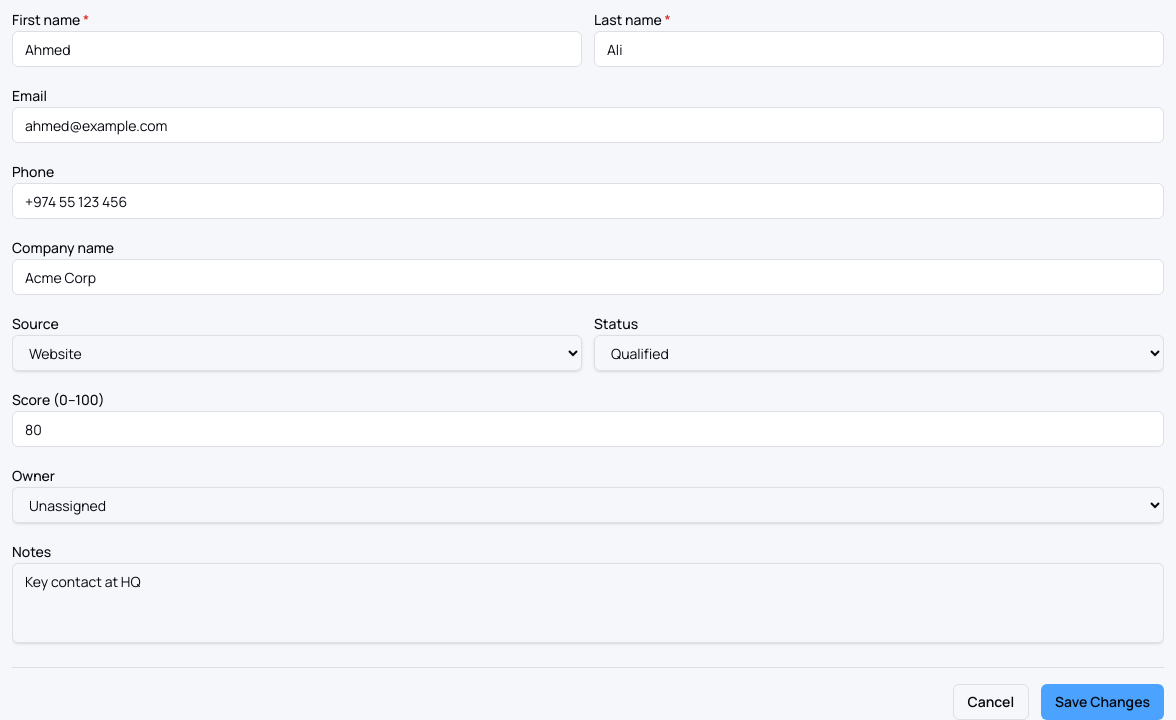
Test: EditLeadForm — duplicate submission prevention › disables the save button while the request is in flight
(page scrolled)
Click the button "Save Changes" at (1103, 702), box x1=1041 y1=684 x2=1164 y2=719
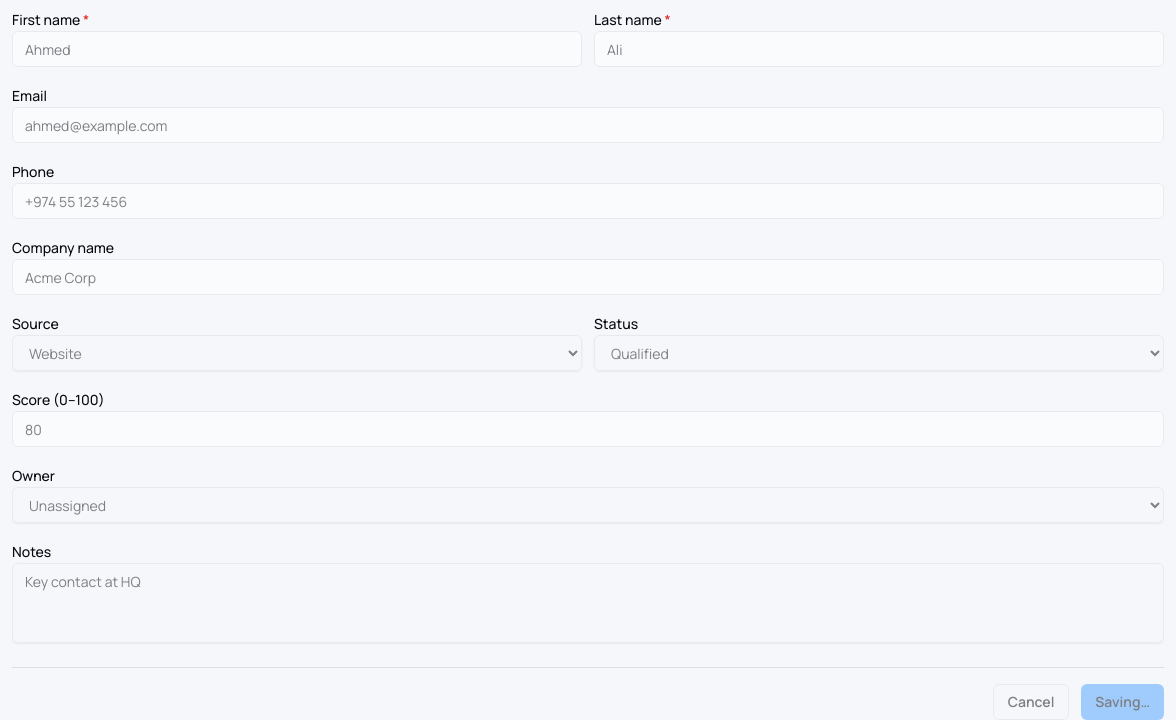
Result: the button "Saving…" is disabled at x1=1081 y1=684 x2=1164 y2=719
